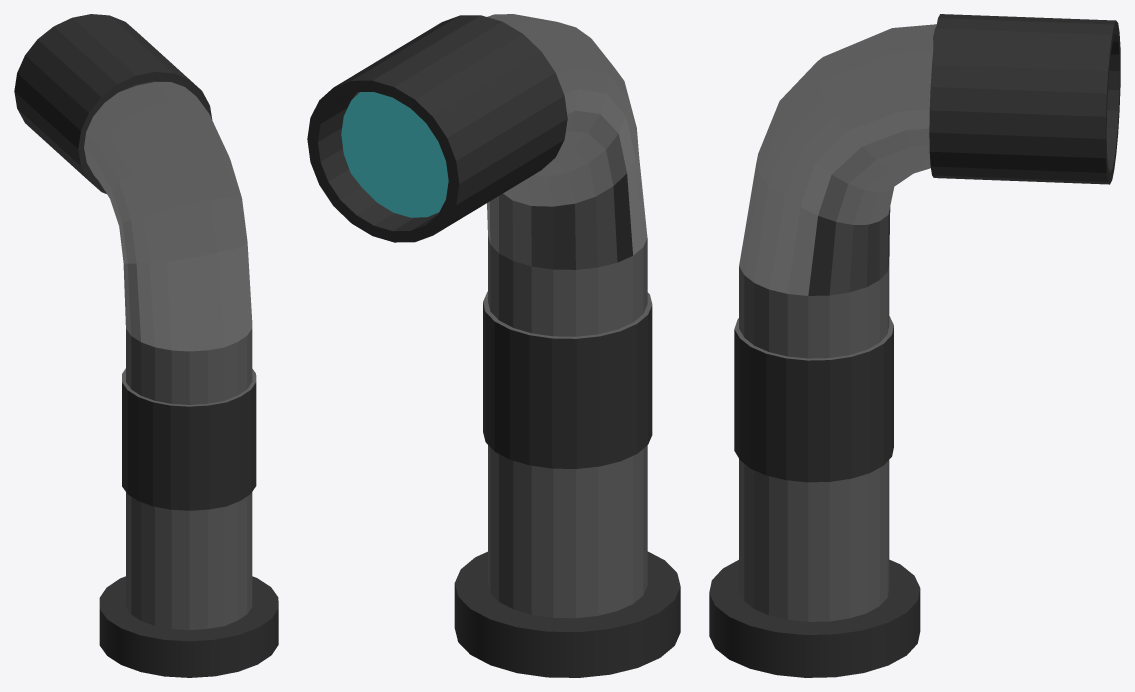
File: 8mBtwh19WWS.glb
The picture shows the model from 3 angles, left to right: view 1: azimuth 30°, elevation 25°; view 2: azimuth 150°, elevation 25°; view 3: azimuth 270°, elevation 25°; orthographic projection. The views are drawn at different scales.
Parts seen in each view (by area): view 1: Cylinder005, Cylinder004; view 2: Cylinder004, Cylinder005; view 3: Cylinder005, Cylinder004.
Part boxes in pixels (x1=…): Cylinder005: x1=84, y1=82, x2=256, y2=629; Cylinder004: x1=14, y1=14, x2=278, y2=677; Cylinder004: x1=307, y1=15, x2=680, y2=677; Cylinder005: x1=341, y1=14, x2=652, y2=618; Cylinder005: x1=734, y1=24, x2=936, y2=621; Cylinder004: x1=709, y1=14, x2=1120, y2=677.
Bounding box in the file's own units: 0.3226 × 1 × 0.6064.
